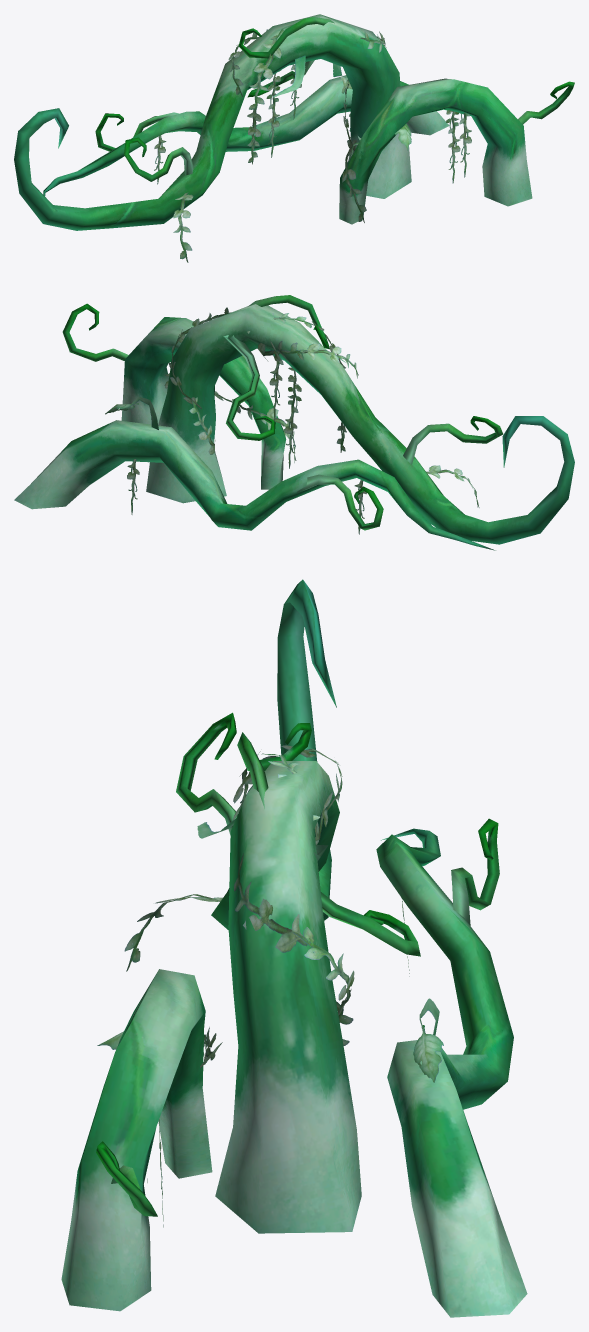
3 views of the same model, one above another, from view 1: azimuth 30°, elevation 25°; view 2: azimuth 150°, elevation 25°; view 3: azimuth 270°, elevation 25° (orthographic). The views are drawn at different scales.
Visible parts, largest first — view 1: UE311; view 2: UE311; view 3: UE311.
Part boxes in pixels (<box>): UE311: <box>14,14,574,262</box>; UE311: <box>14,295,574,550</box>; UE311: <box>61,579,527,1317</box>.
Bounding box in the file's own units: 20.01 × 7.32 × 7.79.
